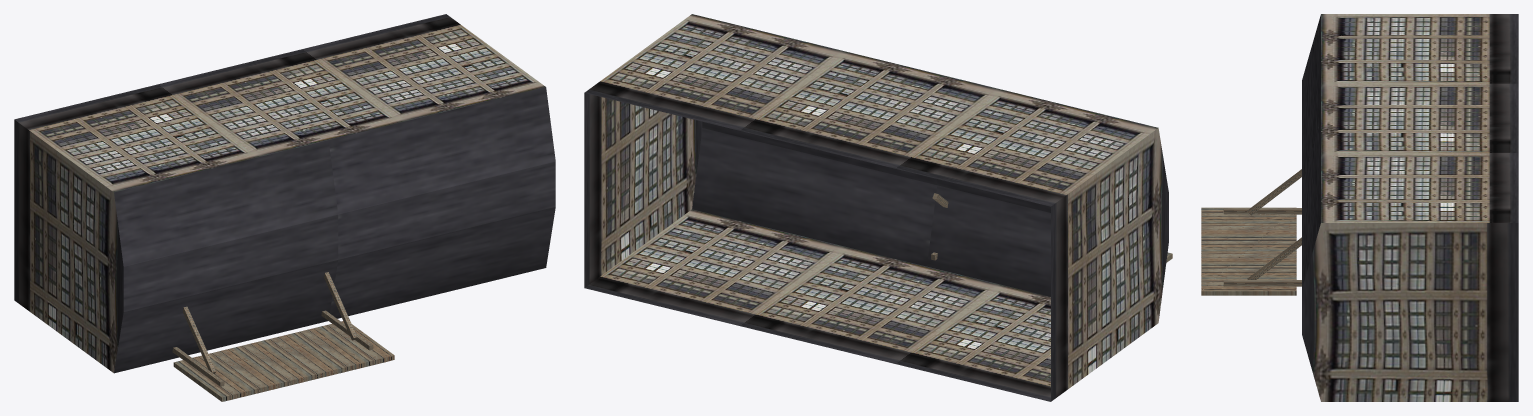
File: urbanwood02c_wtf.obj
3 views of the same model, side by side, from view 1: azimuth 30°, elevation 25°; view 2: azimuth 150°, elevation 25°; view 3: azimuth 270°, elevation 25° (orthographic). The views are drawn at different scales.
Parts seen in each view (by area): view 1: group3, group4, group7; view 2: group4, group3; view 3: group4, group7, group3.
Part boxes in pixels (x1,y1,x2,y2): group3: (114,87,555,373); group4: (14,14,545,372); group7: (172,272,394,401); group4: (584,14,1168,401); group3: (692,121,1050,296); group4: (1302,14,1518,401); group7: (1201,169,1301,295); group3: (1302,15,1320,288).
Bounding box in the file's own units: 660 × 264 × 424.
